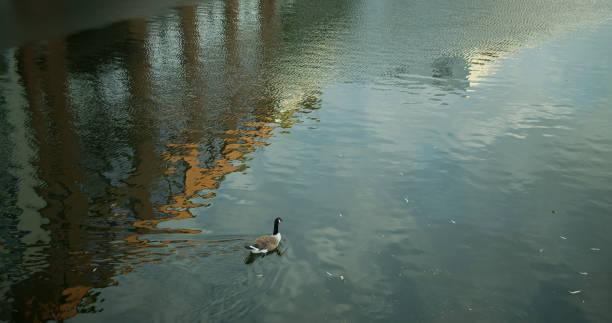Canadian-Goose: (245, 215, 287, 257)
